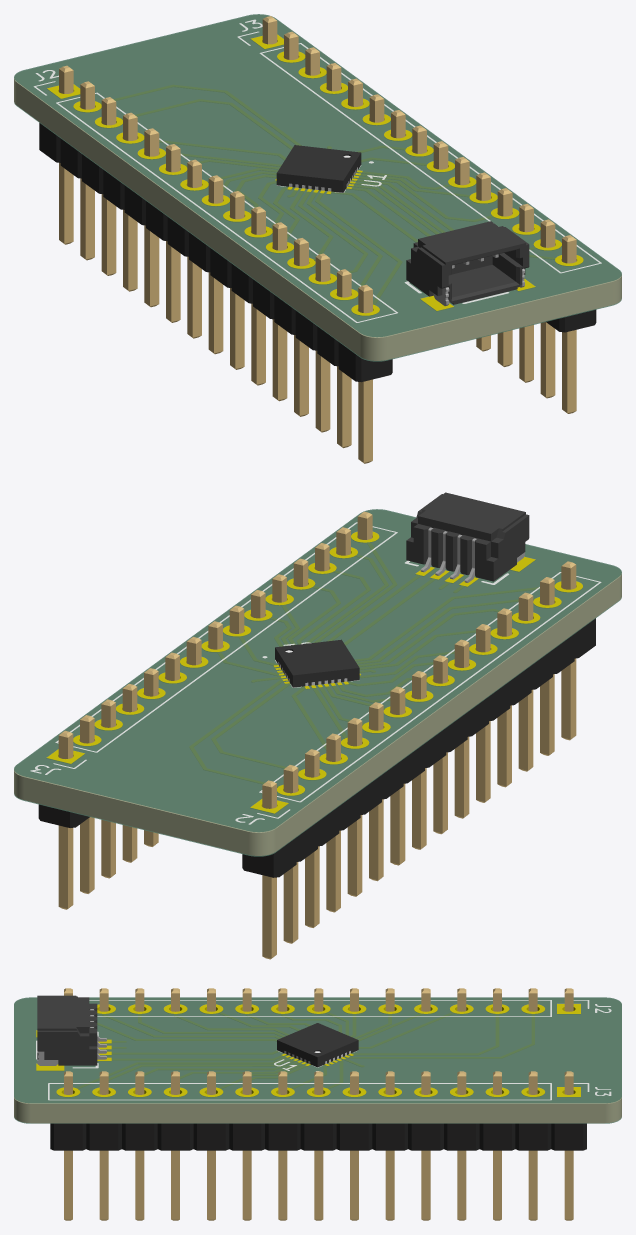
The picture shows the model from 3 angles, top to bottom: view 1: azimuth 30°, elevation 25°; view 2: azimuth 150°, elevation 25°; view 3: azimuth 270°, elevation 25°; orthographic projection. The views are drawn at different scales.
Visible parts, largest first — view 1: =>[0:1:1:18], =>[0:1:1:16], =>[0:1:1:11] (×2), =>[0:1:1:14], =>[0:1:1:13], =>[0:1:1:3], =>[0:1:1:15], =>[0:1:1:17]; view 2: =>[0:1:1:16], =>[0:1:1:18], =>[0:1:1:11] (×2), =>[0:1:1:14], =>[0:1:1:13], =>[0:1:1:3], =>[0:1:1:15], =>[0:1:1:17]; view 3: =>[0:1:1:18], =>[0:1:1:16], =>[0:1:1:11] (×2), =>[0:1:1:14], =>[0:1:1:13], =>[0:1:1:15], =>[0:1:1:3], =>[0:1:1:17].
Part boxes in pixels (x1,y1,x2,y2): =>[0:1:1:18]: [14, 15, 621, 360]; =>[0:1:1:16]: [14, 14, 621, 337]; =>[0:1:1:11] (×2): [39, 16, 596, 463]; =>[0:1:1:14]: [47, 34, 583, 315]; =>[0:1:1:13]: [406, 221, 529, 306]; =>[0:1:1:3]: [276, 145, 361, 192]; =>[0:1:1:15]: [33, 19, 601, 322]; =>[0:1:1:17]: [14, 102, 621, 361]; =>[0:1:1:16]: [14, 509, 621, 832]; =>[0:1:1:18]: [14, 510, 621, 855]; =>[0:1:1:11] (×2): [38, 511, 595, 959]; =>[0:1:1:14]: [47, 531, 582, 813]; =>[0:1:1:13]: [406, 492, 529, 582]; =>[0:1:1:3]: [275, 639, 359, 687]; =>[0:1:1:15]: [30, 522, 601, 824]; =>[0:1:1:17]: [14, 597, 621, 856]; =>[0:1:1:18]: [14, 998, 621, 1123]; =>[0:1:1:16]: [14, 997, 621, 1103]; =>[0:1:1:11] (×2): [50, 988, 586, 1220]; =>[0:1:1:14]: [36, 1004, 580, 1096]; =>[0:1:1:13]: [37, 995, 106, 1065]; =>[0:1:1:15]: [36, 1000, 611, 1100]; =>[0:1:1:3]: [277, 1023, 358, 1067]; =>[0:1:1:17]: [14, 1117, 621, 1123].
Bounding box in the file's own units: 0.0178 × 0.013 × 0.0432.
